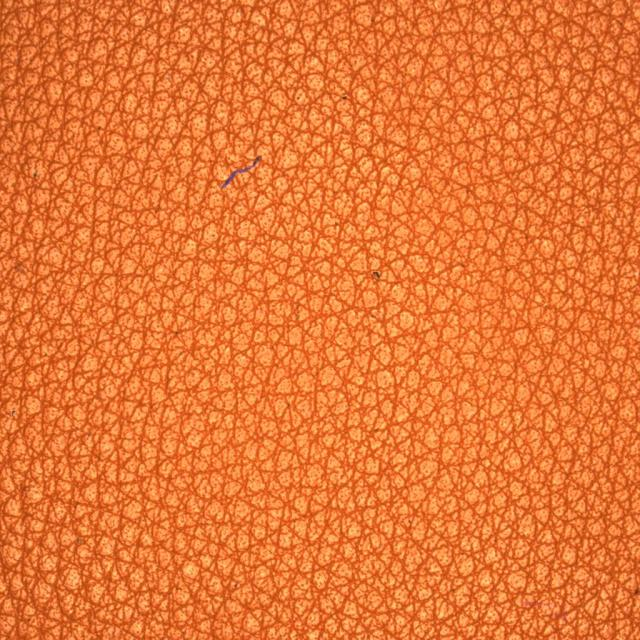Bacterial Injury: (148, 104, 375, 233)
pinhole: (308, 210, 454, 336)
